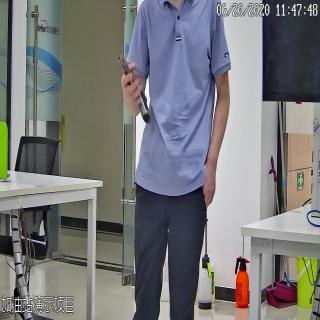gun: (117, 54, 152, 122)
